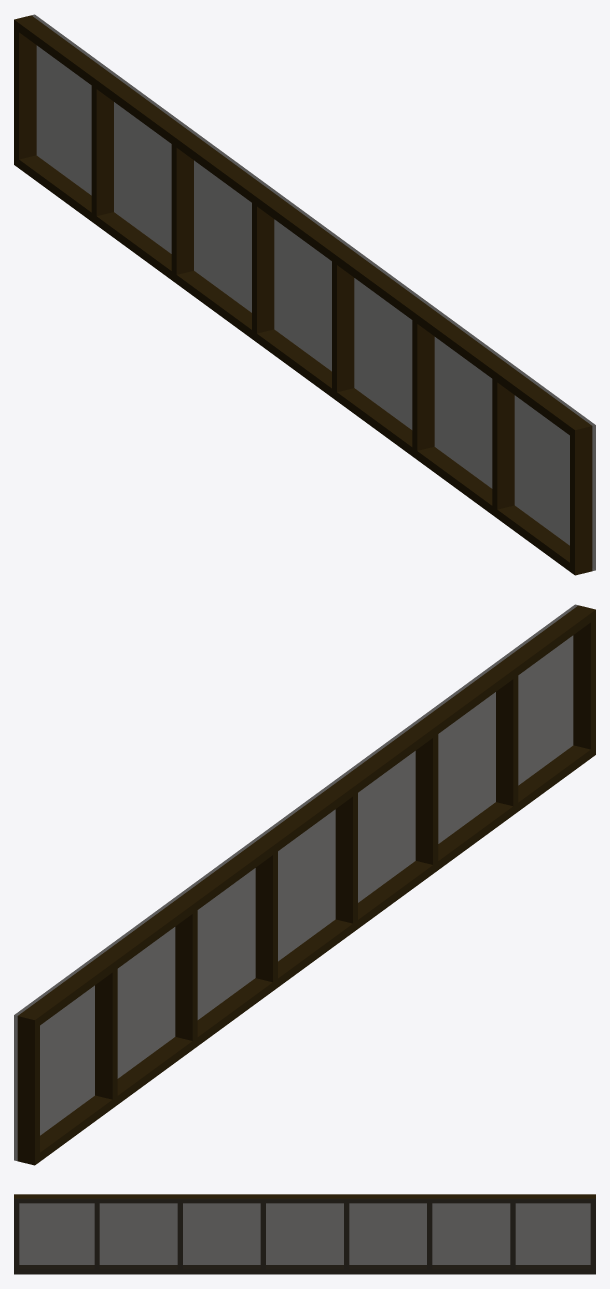
File: 7-SquareWindows(Final).fbx
3 views of the same model, one above another, from view 1: azimuth 30°, elevation 25°; view 2: azimuth 150°, elevation 25°; view 3: azimuth 270°, elevation 25° (orthographic). The views are drawn at different scales.
Visible parts, largest first — view 1: Glass; view 2: Glass; view 3: Glass.
Part boxes in pixels (x1,y1,x2,y2): Glass: (14, 14, 595, 575); Glass: (14, 604, 595, 1165); Glass: (14, 1194, 595, 1274).
Size of the model in its own units: 121 by 800 by 5600.
